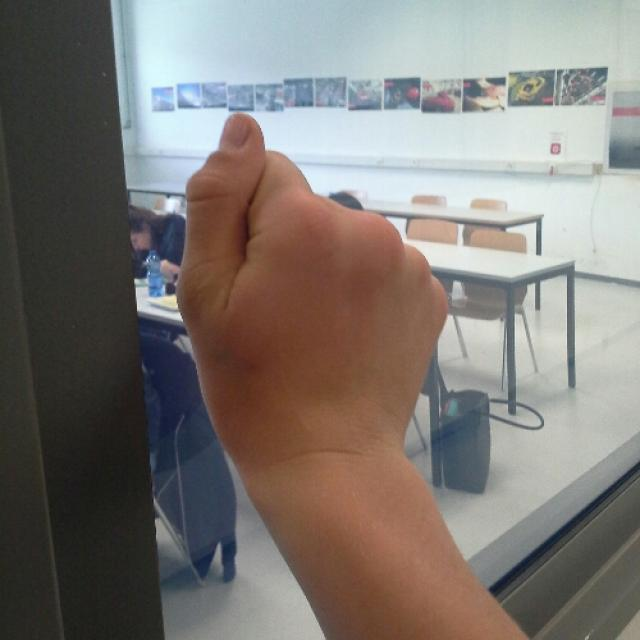rock: (181, 110, 452, 462)
